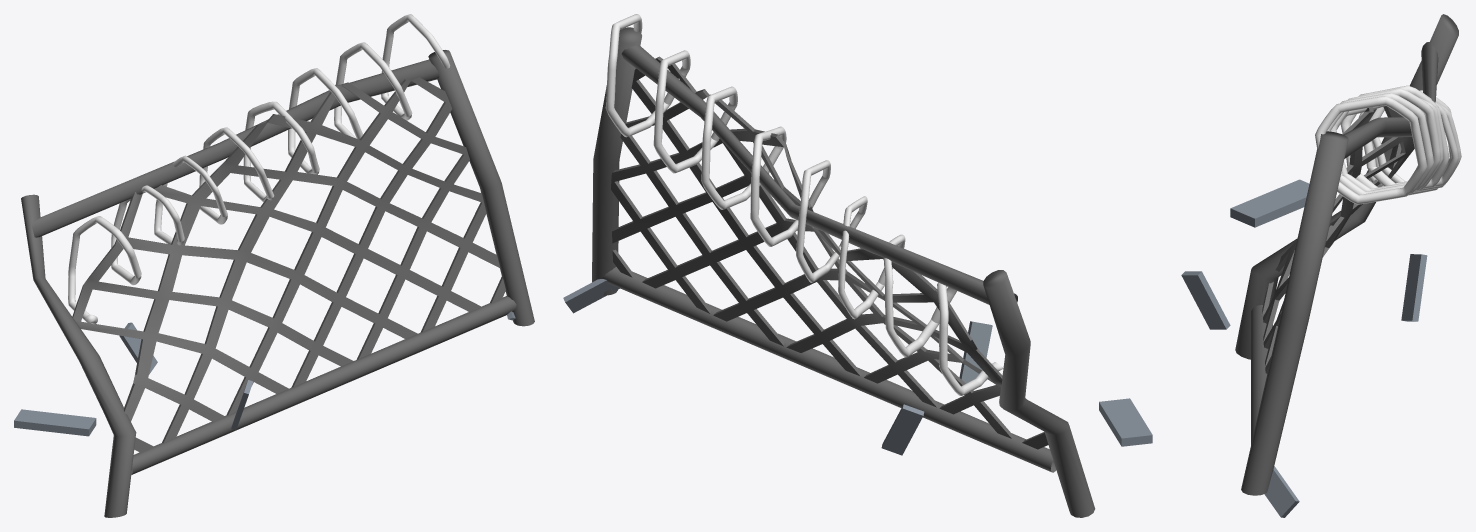
Rendered from fence_tier2_broken.fbx.
3 views of the same model, side by side, from view 1: azimuth 30°, elevation 25°; view 2: azimuth 150°, elevation 25°; view 3: azimuth 270°, elevation 25° (orthographic). The views are drawn at different scales.
Visible parts, largest first — view 1: fence, barbed_wire, Cube.001; view 2: fence, barbed_wire, Cube.001; view 3: fence, barbed_wire, Cube.001.
Part boxes in pixels (x1,y1,x2,y2): fence: (21,50,534,517); barbed_wire: (68,14,450,324); Cube.001: (14,311,515,436); fence: (592,27,1095,517); barbed_wire: (605,14,1003,395); Cube.001: (563,279,1152,455); fence: (1235,14,1458,495); barbed_wire: (1315,85,1461,204); Cube.001: (1181,179,1427,517).
Size of the model in its own units: 261 by 184 by 98.77.
